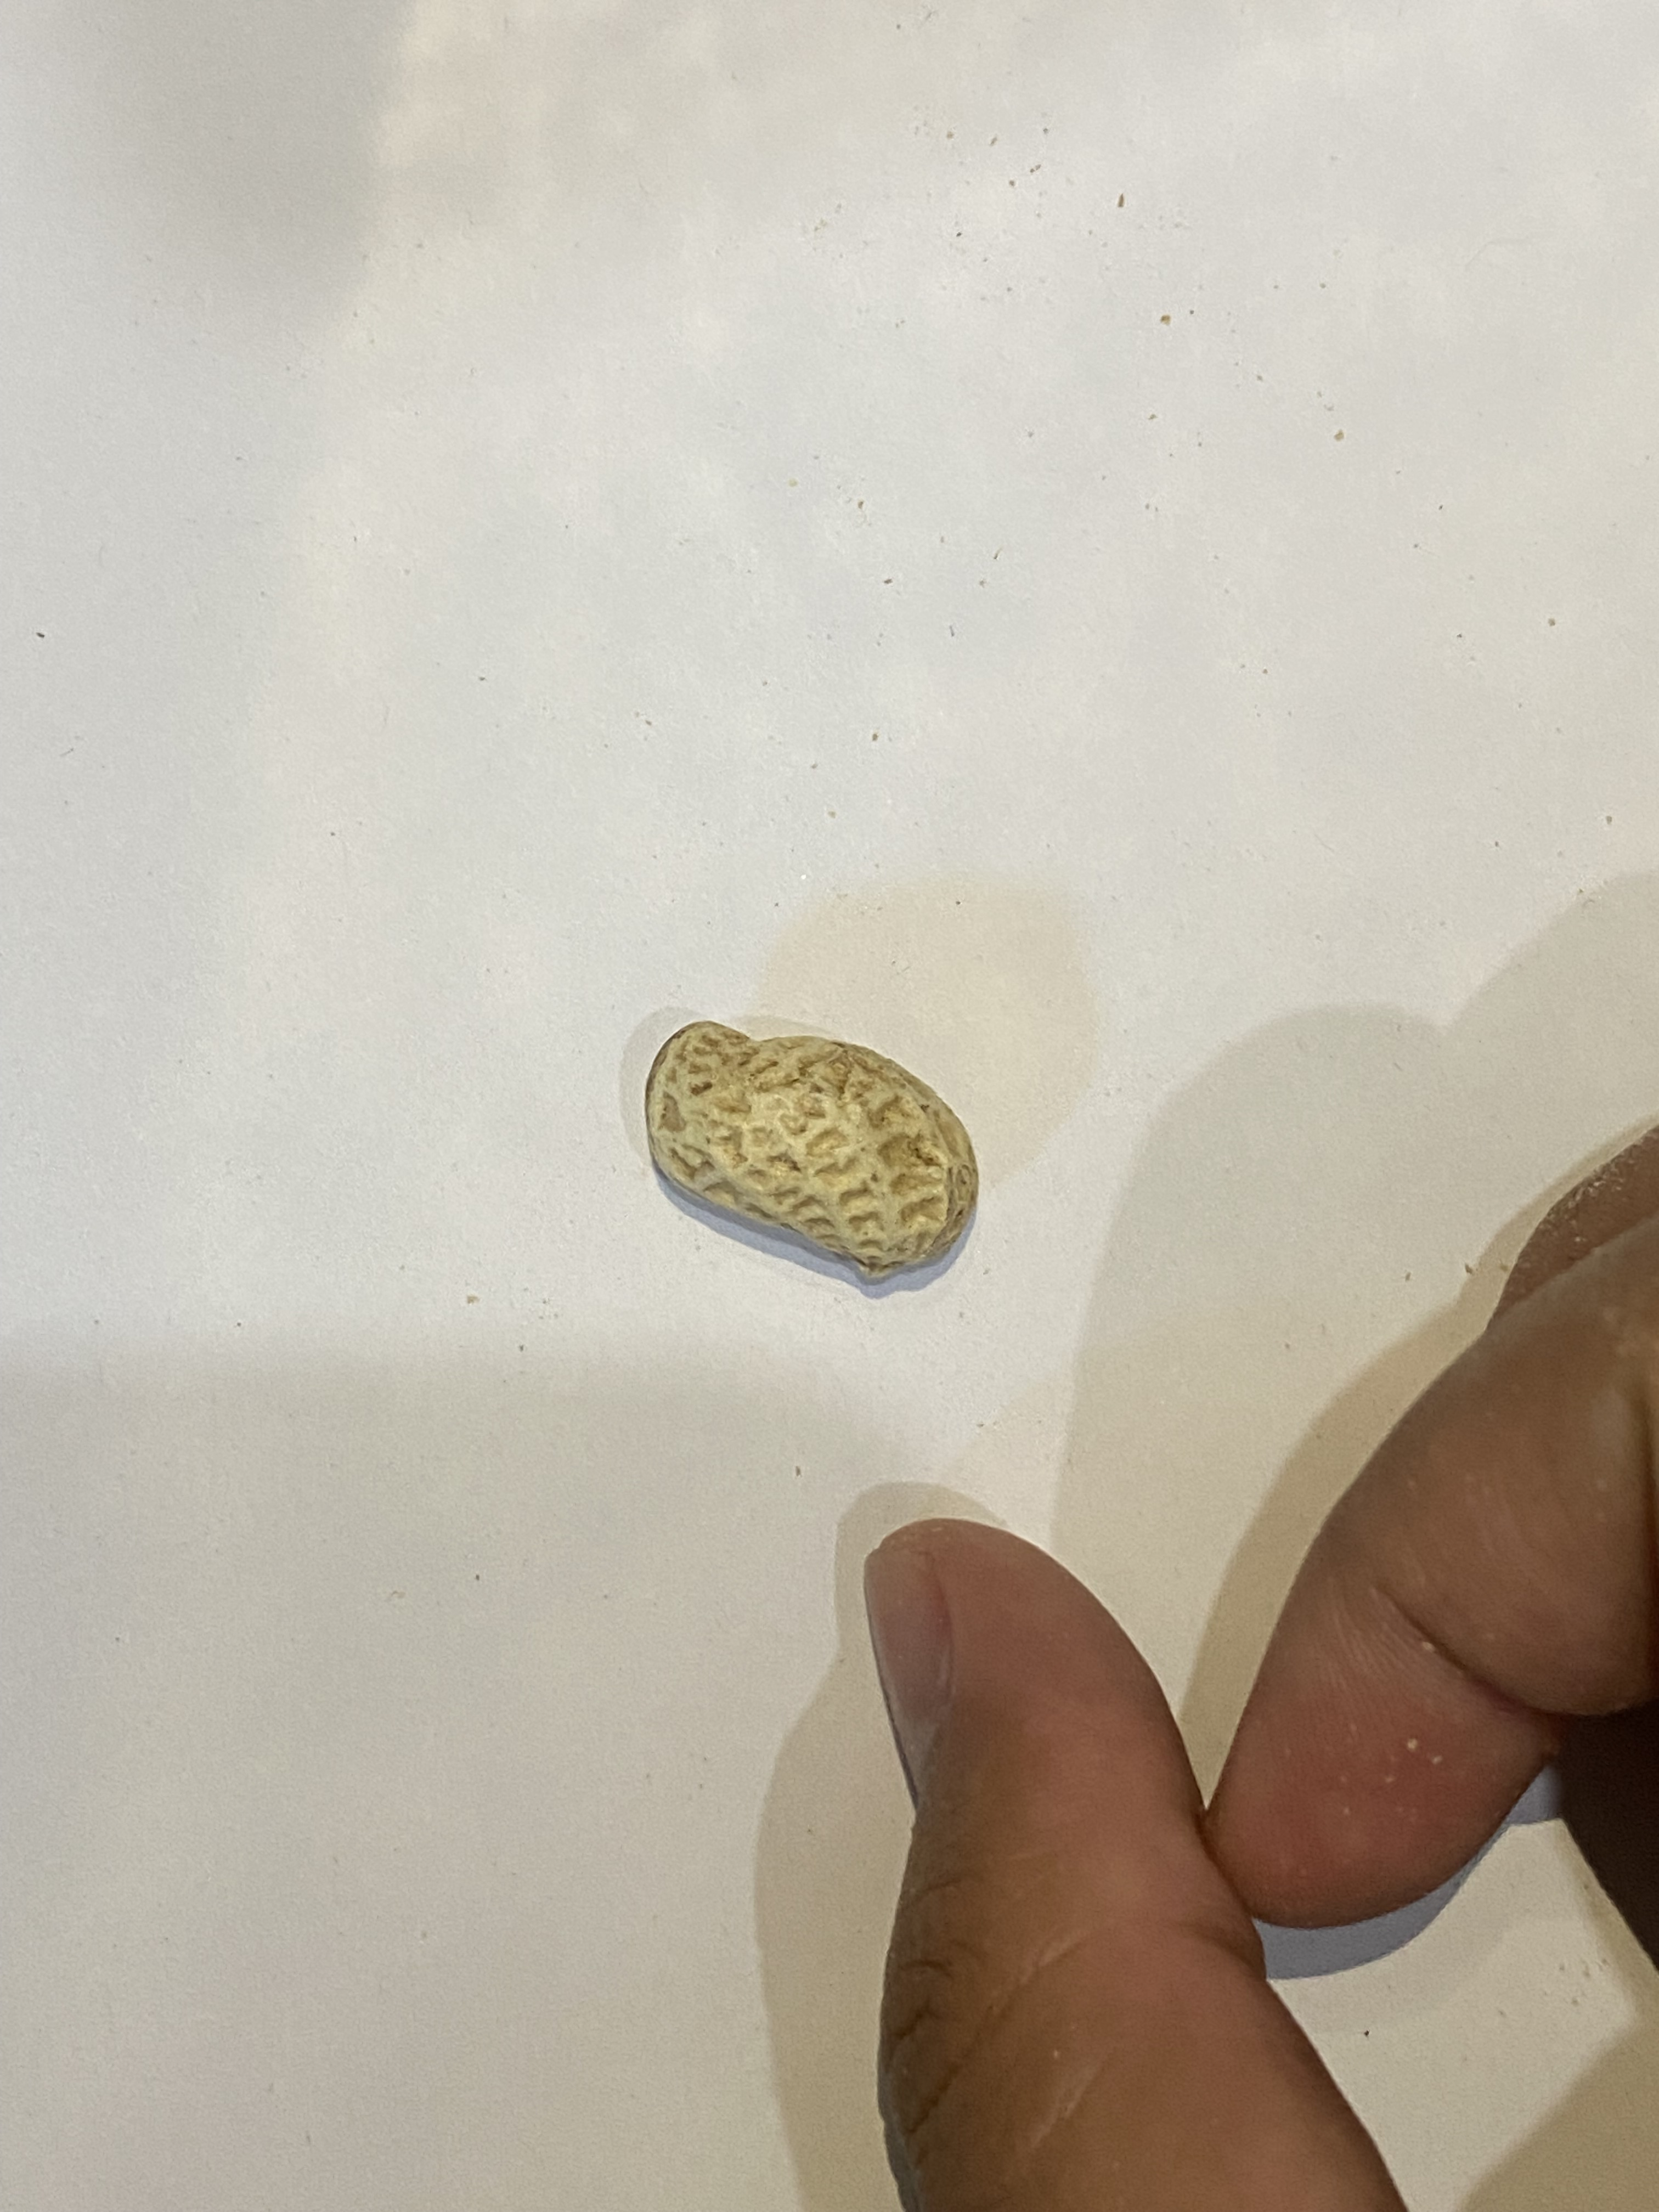kacang1: (622, 1000, 988, 1287)
